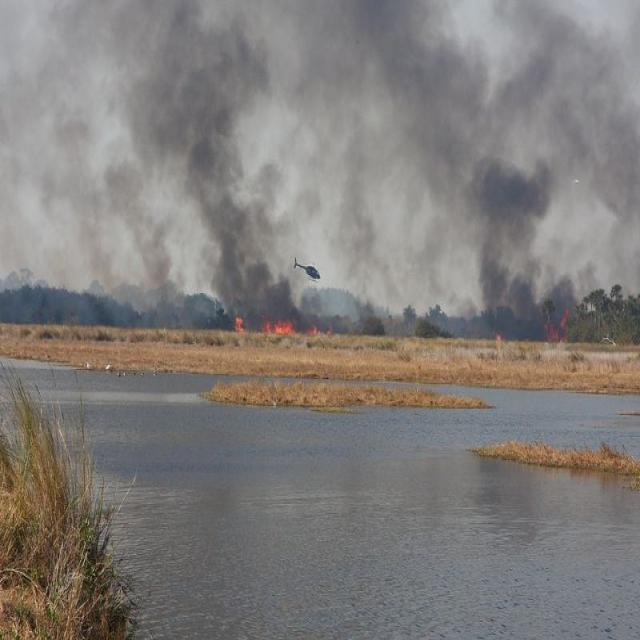Fire: (544, 306, 570, 342), (259, 317, 298, 337), (309, 322, 335, 336), (231, 313, 243, 333)
Smoke: (134, 220, 194, 329), (86, 248, 154, 328), (328, 206, 376, 282), (427, 270, 479, 339), (104, 156, 144, 218), (278, 184, 320, 234), (246, 157, 286, 209), (42, 240, 81, 290), (372, 253, 403, 310), (195, 238, 218, 294), (352, 292, 382, 334), (574, 260, 602, 302), (40, 166, 64, 215), (544, 234, 562, 294), (523, 250, 542, 300)
